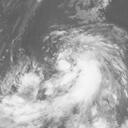cyclone: (45, 40, 103, 94)
